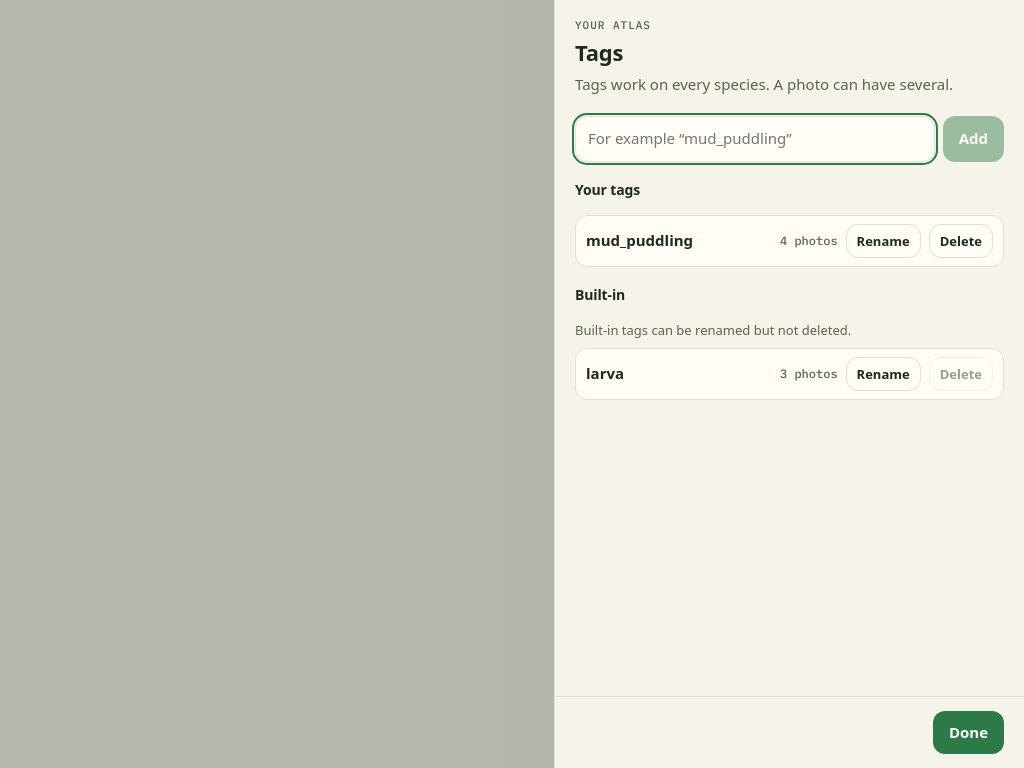
Test case: adds a tag of your own
Expected: the text "mud_puddling" is shown, [586, 230, 693, 250]
Step 1. Type " nectaring " into the field named "New tag" → (755, 139), box [575, 116, 935, 162]
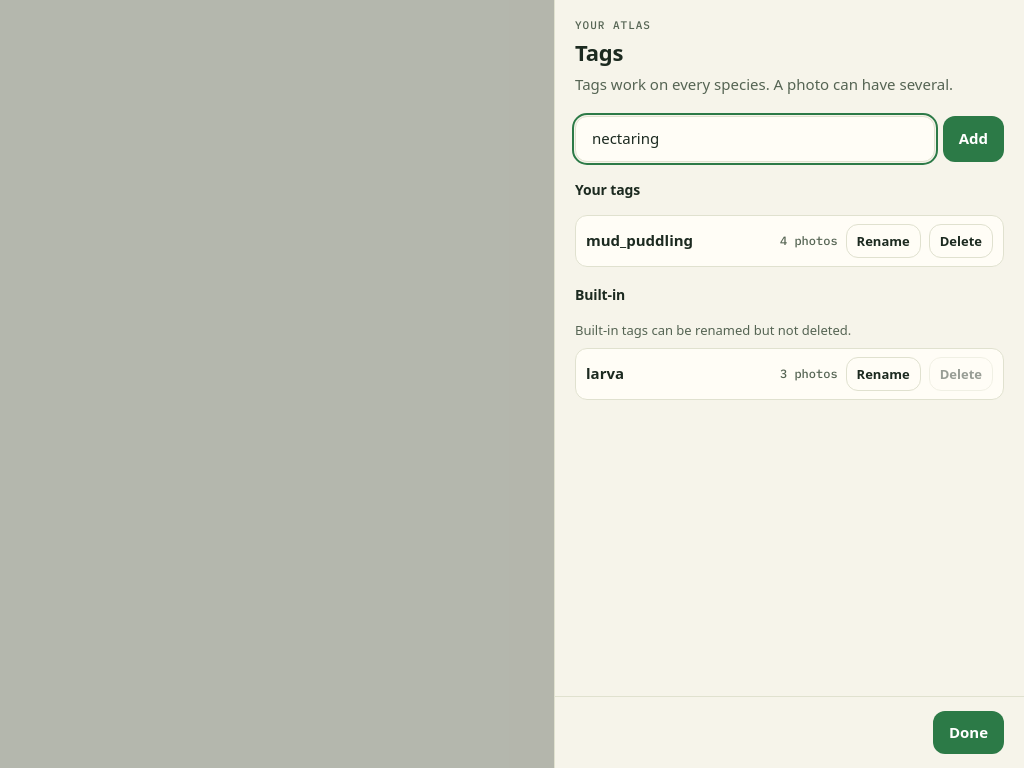
Step 2. Click the button "Add" → (973, 139), box [943, 116, 1004, 162]
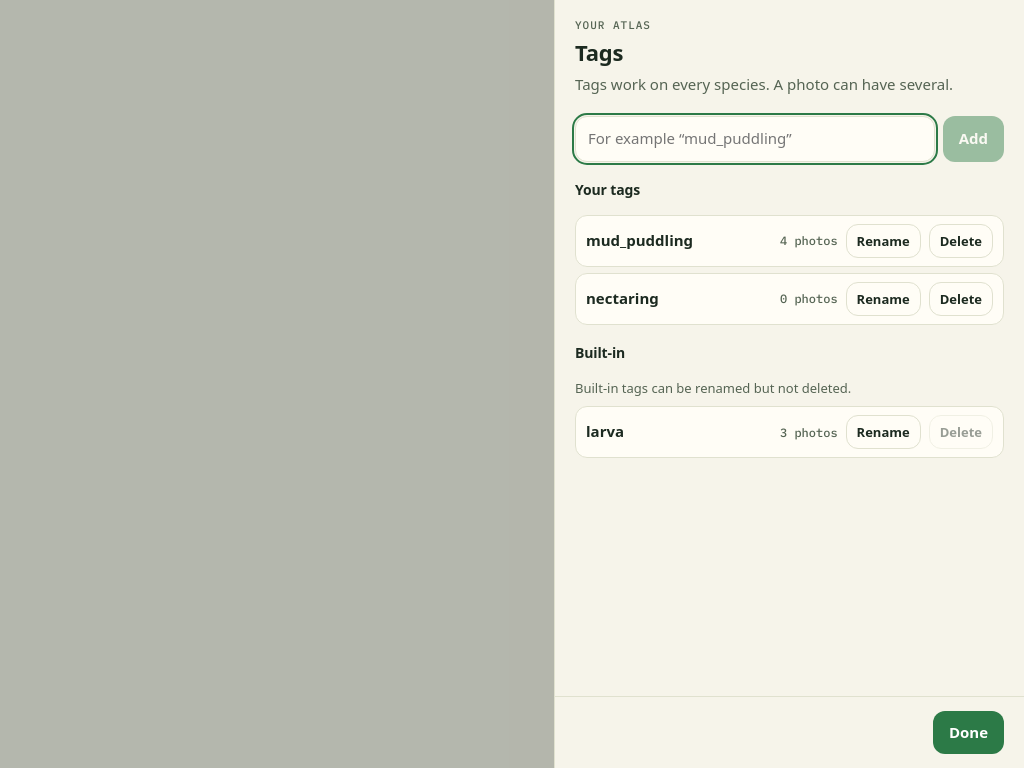
Now the text "nectaring" is shown, box [586, 288, 659, 308]
